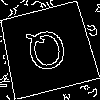Q: (23, 24, 71, 82)
